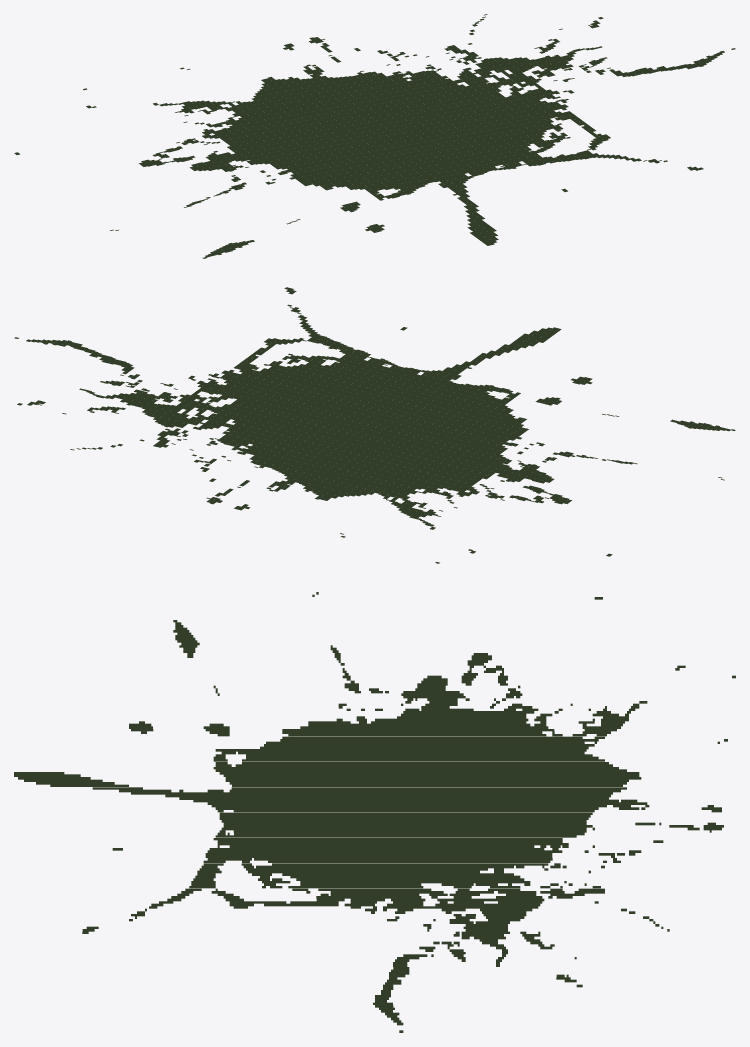
The model's file is gleba-spawner-corpse.glb.
The picture shows the model from 3 angles, top to bottom: view 1: azimuth 30°, elevation 25°; view 2: azimuth 150°, elevation 25°; view 3: azimuth 270°, elevation 25°; orthographic projection. The views are drawn at different scales.
Visible parts, largest first — view 1: body; view 2: body; view 3: body.
Boxes of the visible parts, x1,y1,x2,y2 form: body: (14,14,735,258); body: (14,287,735,563); body: (14,592,735,1032).
Size of the model in its own units: 10.88 by 0 by 7.53.
